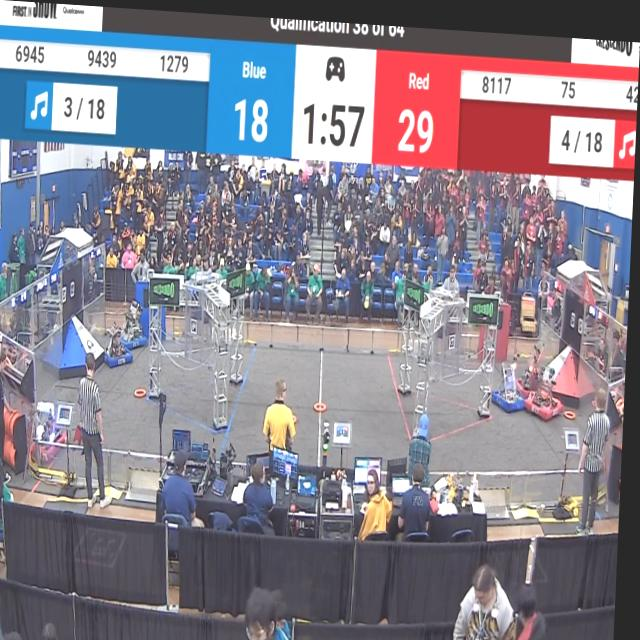Robot: (526, 335, 577, 417), (30, 388, 77, 466), (495, 344, 528, 409), (523, 325, 551, 392), (104, 314, 135, 370), (123, 297, 151, 349)
